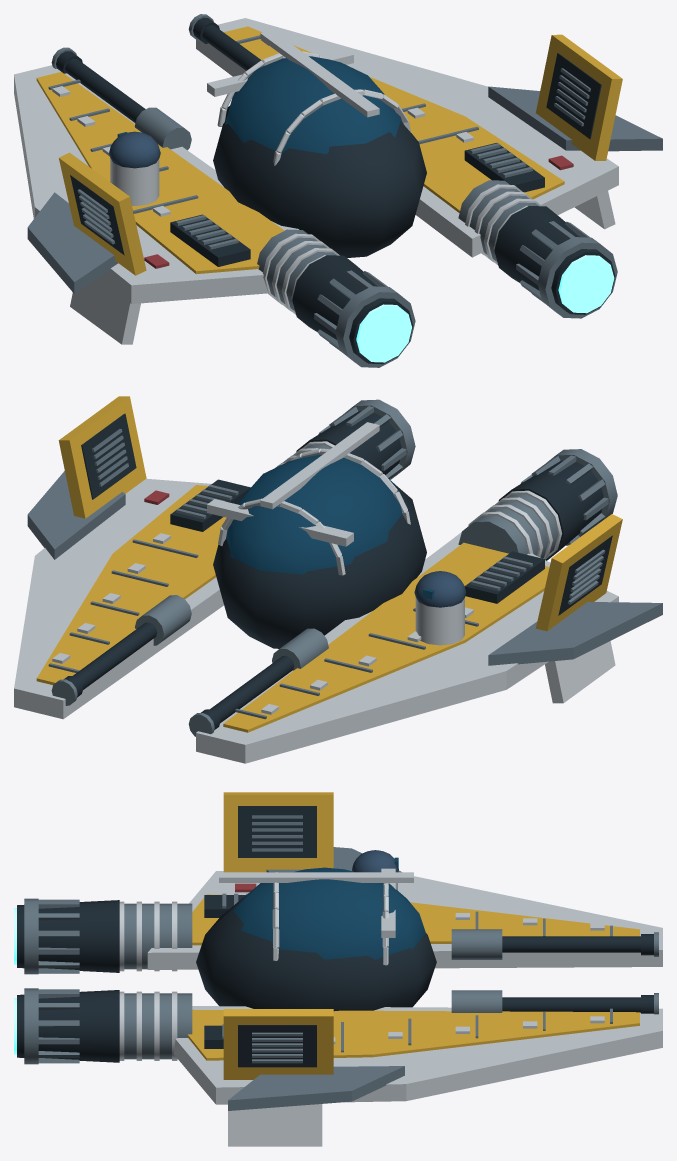
Rendered from eta2.glb.
The picture shows the model from 3 angles, top to bottom: view 1: azimuth 30°, elevation 25°; view 2: azimuth 150°, elevation 25°; view 3: azimuth 270°, elevation 25°; orthographic projection. The views are drawn at different scales.
Parts seen in each view (by area): view 1: eta2-material-2, eta2-material-0, eta2-material-3, eta2-material-4, eta2-material-1, eta2-material-5, eta2-material-7; view 2: eta2-material-2, eta2-material-3, eta2-material-0, eta2-material-4, eta2-material-1, eta2-material-7; view 3: eta2-material-0, eta2-material-2, eta2-material-4, eta2-material-3, eta2-material-1, eta2-material-7.
Part boxes in pixels (x1,y1,x2,y2): eta2-material-2: [14, 18, 618, 344]; eta2-material-0: [56, 17, 615, 364]; eta2-material-3: [36, 26, 622, 275]; eta2-material-4: [27, 14, 662, 367]; eta2-material-1: [117, 56, 402, 154]; eta2-material-5: [356, 255, 614, 362]; eta2-material-7: [109, 131, 160, 168]; eta2-material-2: [14, 422, 618, 763]; eta2-material-3: [36, 396, 622, 732]; eta2-material-0: [64, 411, 612, 729]; eta2-material-4: [27, 399, 662, 736]; eta2-material-1: [226, 454, 434, 599]; eta2-material-7: [414, 571, 466, 607]; eta2-material-0: [17, 806, 653, 1067]; eta2-material-2: [119, 868, 662, 1146]; eta2-material-4: [24, 815, 658, 1110]; eta2-material-3: [187, 792, 639, 1079]; eta2-material-1: [233, 857, 425, 959]; eta2-material-7: [352, 850, 398, 872].
Bounding box in the file's own units: 5.22 × 1.53 × 5.47.
